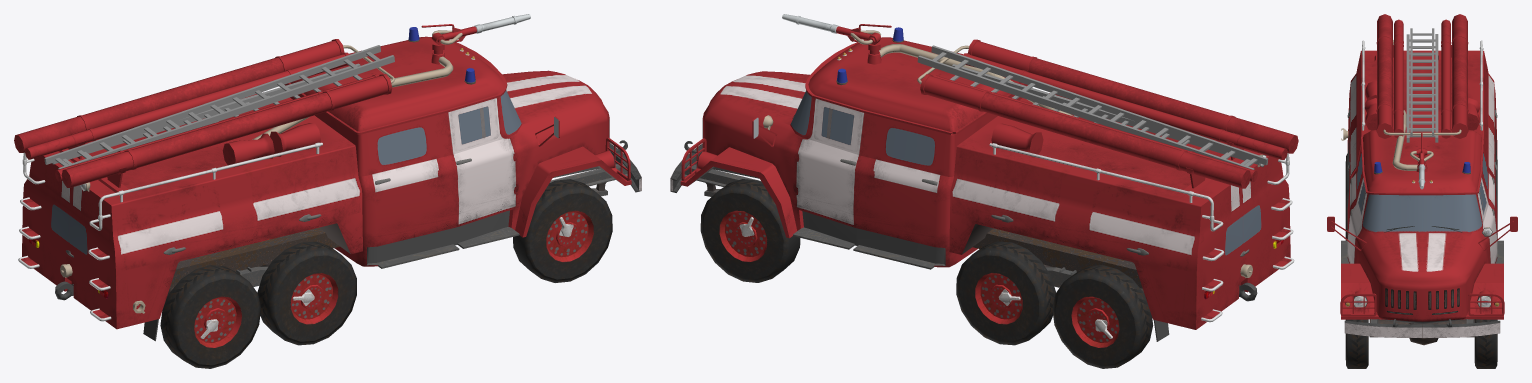
The model's file is zil_40.glb.
3 views of the same model, side by side, from view 1: azimuth 30°, elevation 25°; view 2: azimuth 150°, elevation 25°; view 3: azimuth 270°, elevation 25° (orthographic). The views are drawn at different scales.
Visible parts, largest first — view 1: Object_3, Object_4; view 2: Object_3, Object_4; view 3: Object_3, Object_4.
Part boxes in pixels (x1,y1,x2,y2): Object_3: [14, 14, 641, 341]; Object_4: [160, 179, 612, 368]; Object_3: [670, 14, 1298, 341]; Object_4: [700, 179, 1153, 368]; Object_3: [1327, 14, 1517, 345]; Object_4: [1345, 152, 1497, 368].
Size of the model in its own units: 6.74 by 2.79 by 2.49.
2 materials, 2 textured.
